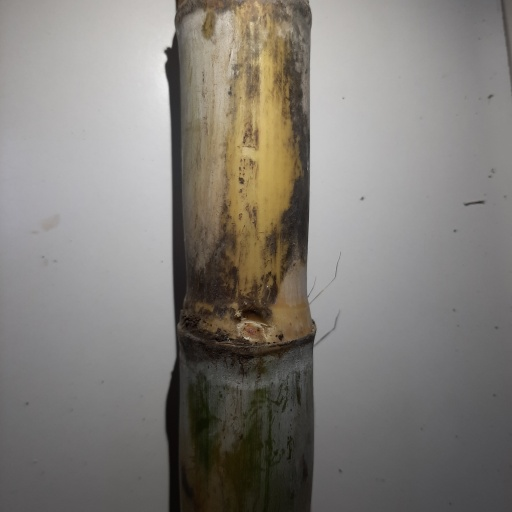Damage_Bud: (234, 309, 267, 345)
